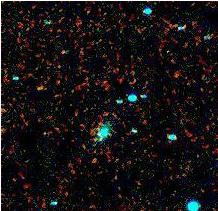star: (21, 71, 51, 101)
